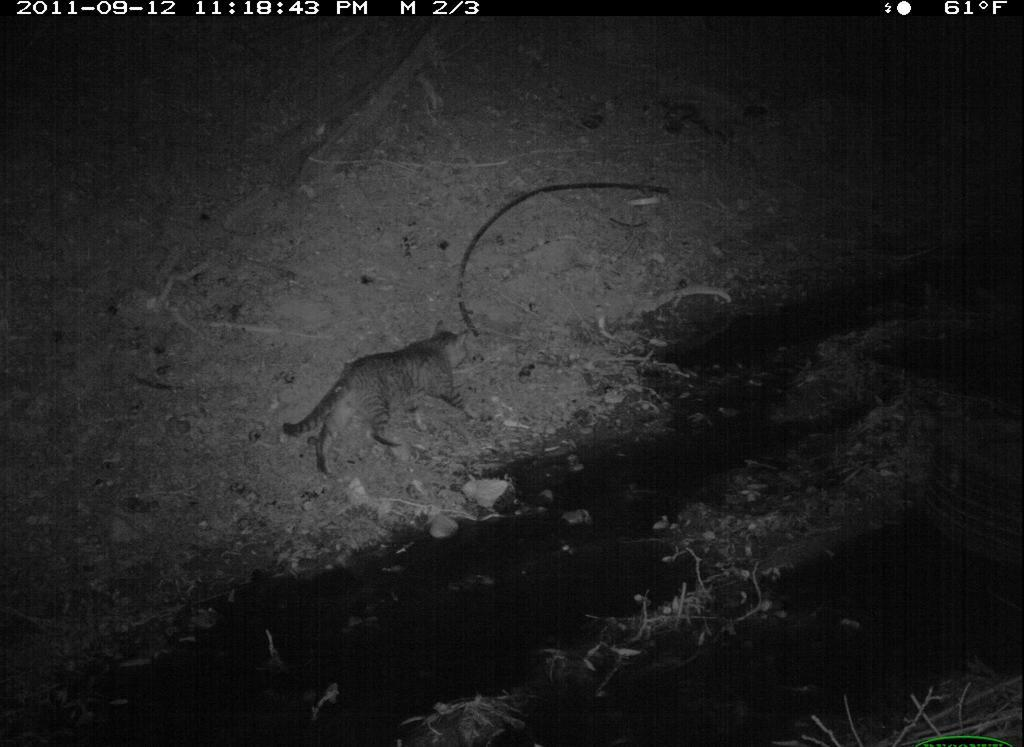cat: (282, 319, 482, 479)
